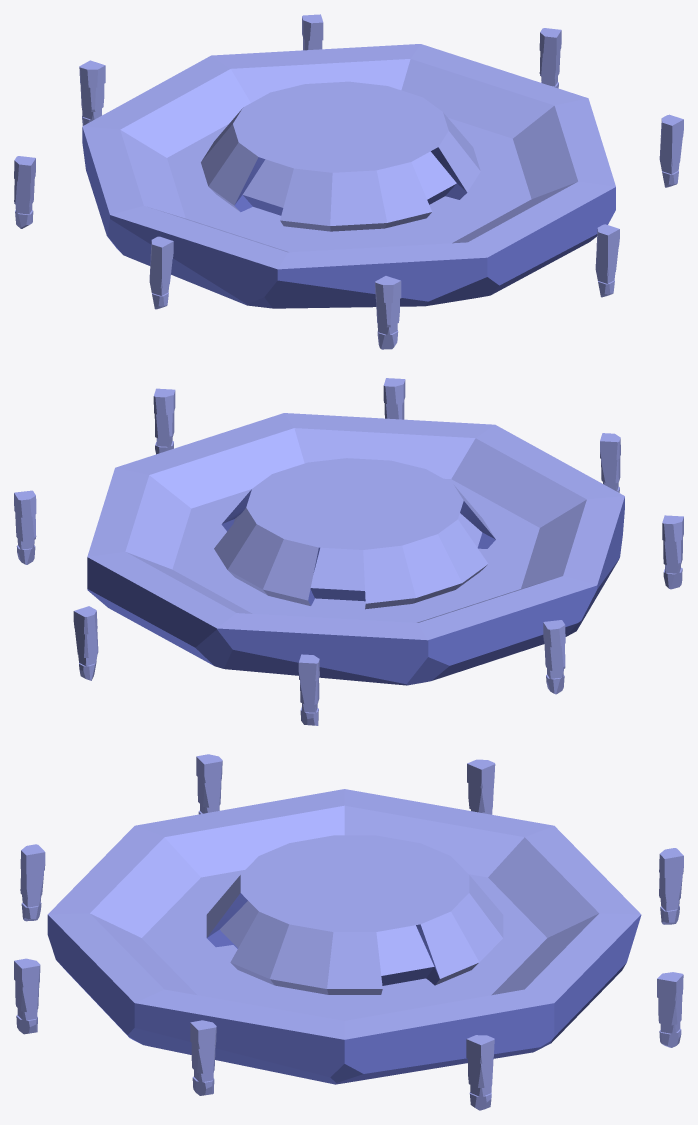
The model's file is Extra 1.fbx.
3 views of the same model, one above another, from view 1: azimuth 30°, elevation 25°; view 2: azimuth 150°, elevation 25°; view 3: azimuth 270°, elevation 25° (orthographic). The views are drawn at different scales.
Visible parts, largest first — view 1: Extra 1; view 2: Extra 1; view 3: Extra 1.
Part boxes in pixels (x1,y1,x2,y2): Extra 1: (14, 14, 683, 349); Extra 1: (14, 378, 683, 725); Extra 1: (14, 754, 683, 1110).
Size of the model in its own units: 21.79 by 3.58 by 21.53.
